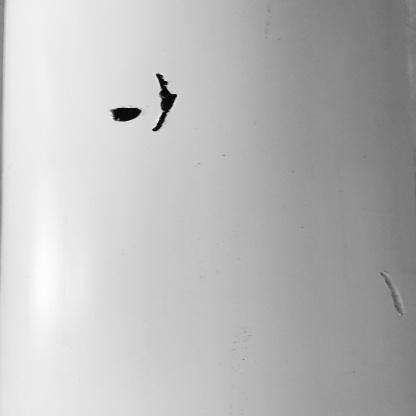kongdong: (150, 73, 182, 132), (111, 105, 141, 124)
sunshang: (378, 269, 406, 318)
